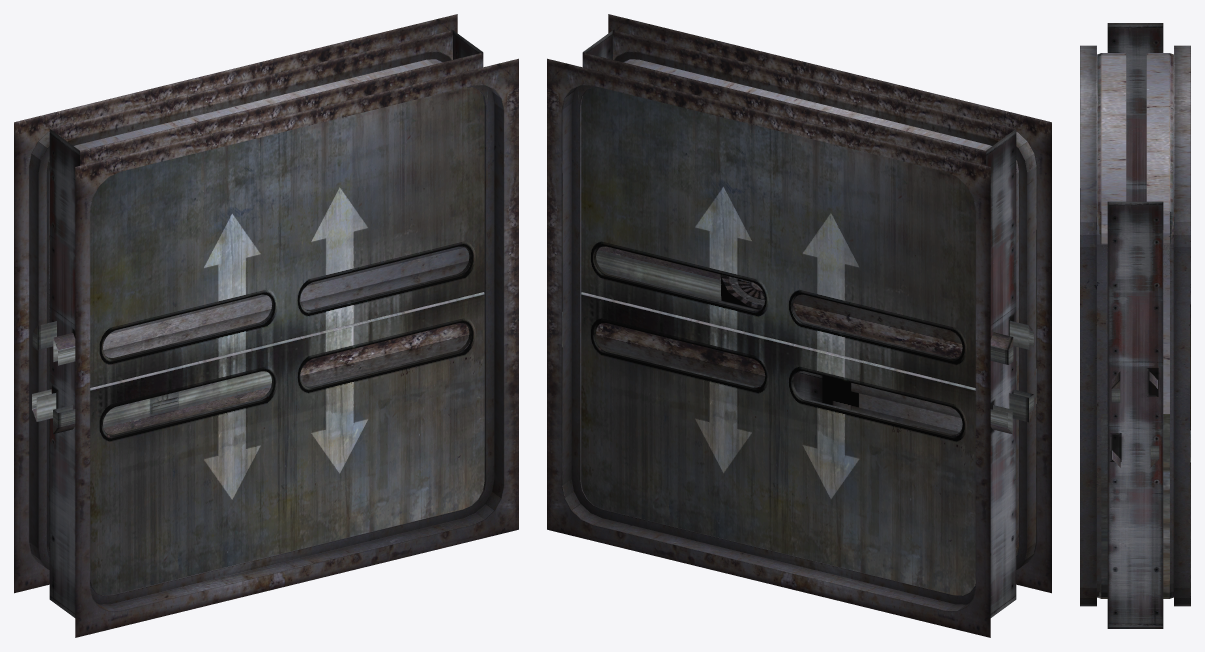
The model's file is big_security_door.obj.
3 views of the same model, side by side, from view 1: azimuth 30°, elevation 25°; view 2: azimuth 150°, elevation 25°; view 3: azimuth 270°, elevation 25° (orthographic). The views are drawn at different scales.
Visible parts, largest first — view 1: rdmobj00.002, rdmobj01; view 2: rdmobj00.002, rdmobj01; view 3: rdmobj00.002.
Boxes of the visible parts, <box> form: rdmobj00.002: <box>14,14,518,637</box>; rdmobj01: <box>103,246,469,434</box>; rdmobj00.002: <box>547,14,1051,637</box>; rdmobj01: <box>596,246,962,434</box>; rdmobj00.002: <box>1080,23,1190,628</box>.
Size of the model in its own units: 378 by 383 by 90.07.
Materials: 2 (2 with a texture image).
